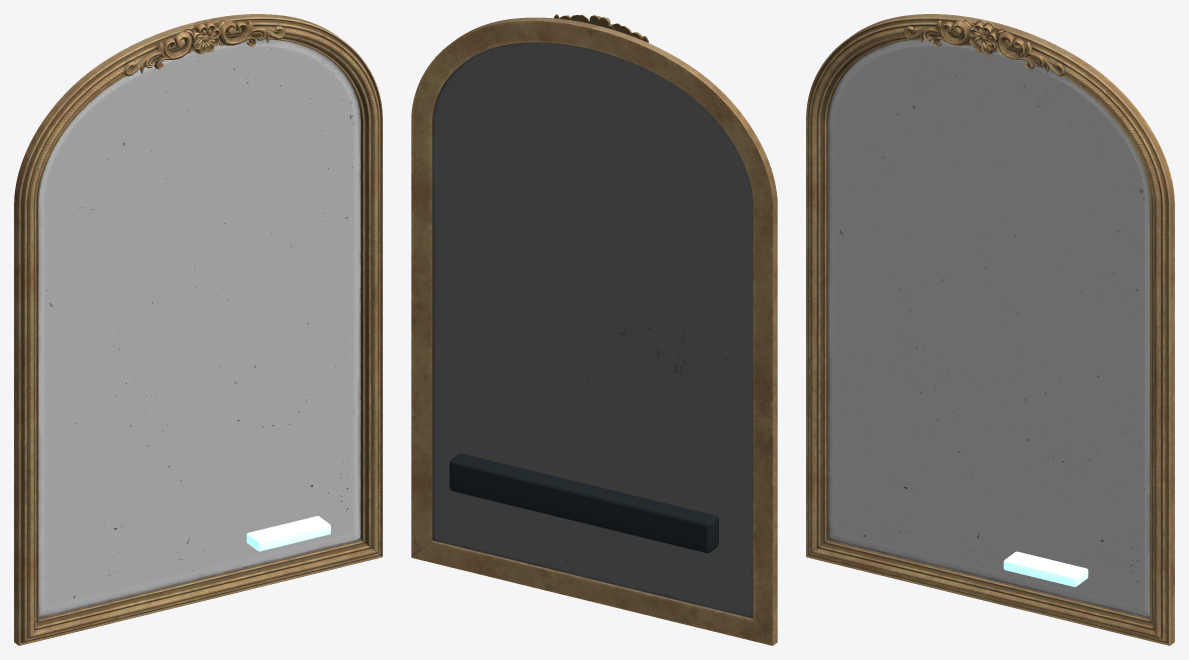
The model's file is hp_l2_cc0_wall_mirror_polyhaven_v1.glb.
The picture shows the model from 3 angles, left to right: view 1: azimuth 30°, elevation 25°; view 2: azimuth 150°, elevation 25°; view 3: azimuth 330°, elevation 25°; orthographic projection.
Visible parts, largest first — view 1: cc0_source_ornate_mirror_01, hp_wall_mirror_lower_cyan_index; view 2: cc0_source_ornate_mirror_01, hp_wall_mirror_back_mount; view 3: cc0_source_ornate_mirror_01, hp_wall_mirror_lower_cyan_index.
Boxes of the visible parts, box(x1,y1,x2,y2) form: cc0_source_ornate_mirror_01: box(14, 14, 382, 645); hp_wall_mirror_lower_cyan_index: box(246, 516, 330, 551); cc0_source_ornate_mirror_01: box(411, 14, 777, 645); hp_wall_mirror_back_mount: box(449, 454, 718, 552); cc0_source_ornate_mirror_01: box(806, 14, 1174, 645); hp_wall_mirror_lower_cyan_index: box(1003, 551, 1088, 586).
Bounding box in the file's own units: 0.7976 × 1.22 × 0.1525.
3 materials, 1 textured.
